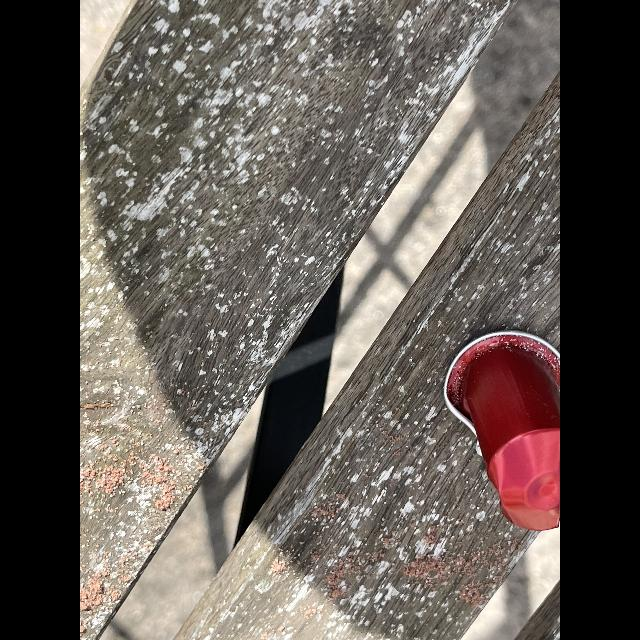damaged_capsule: (434, 316, 560, 540)
